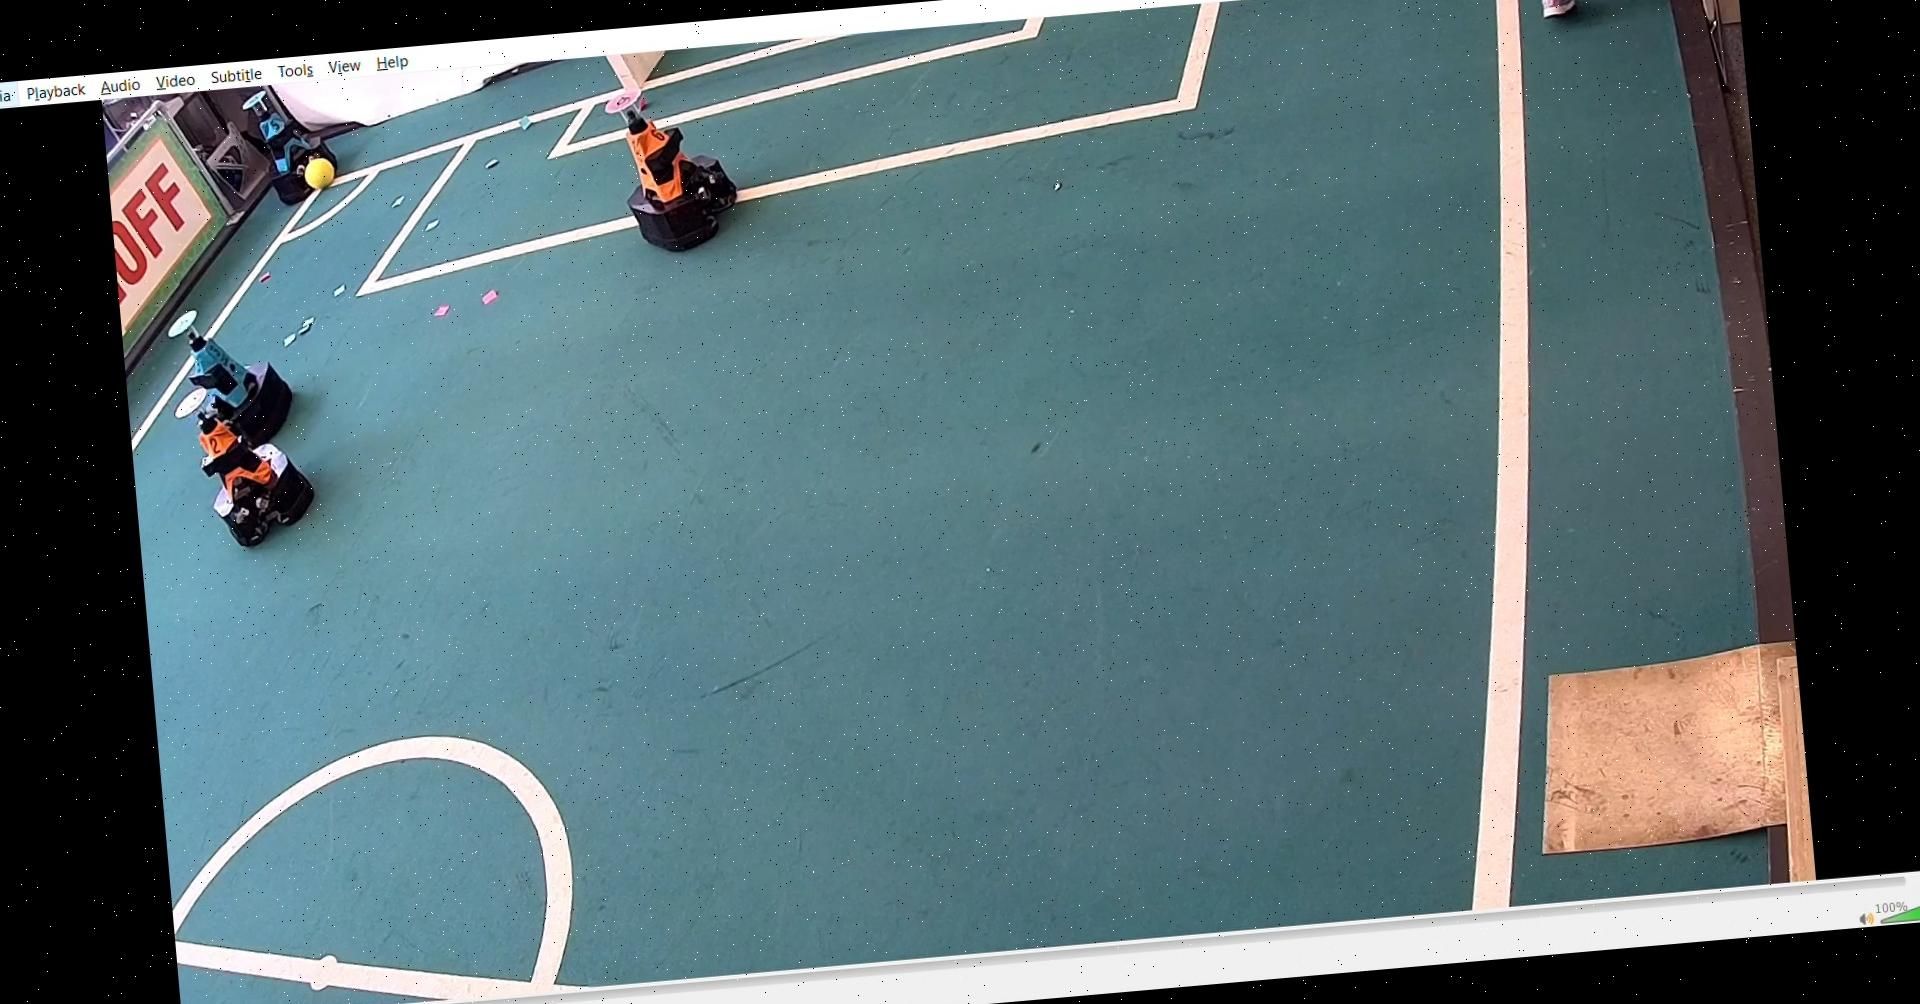Ball: (296, 145, 338, 195)
Team_Blue: (171, 293, 290, 446), (243, 83, 354, 207)
Team_Red: (169, 376, 333, 551), (597, 80, 743, 265)
